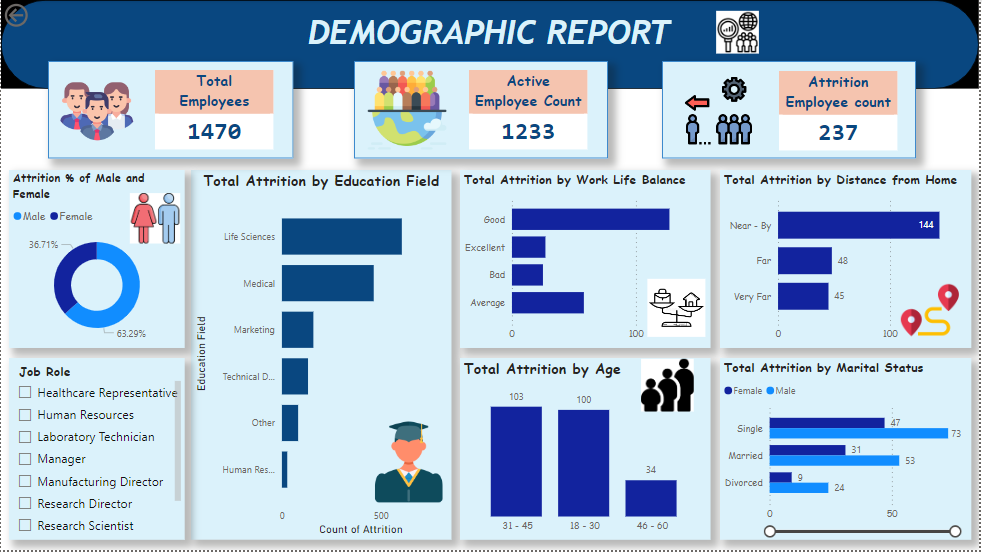

The page's visual inventory and layout, read from the dashboard file:
{"tool":"powerbi","page":{"name":"DE Report","canvas":[1280,720],"ordinal":1},"visuals":[{"type":"shape","box":[0,0,1280,116.2],"z":0},{"type":"image","box":[873.8,8.8,181.2,66.2],"z":1000},{"type":"clusteredBarChart","title":"Total Attrition by Education Field","fields":{"Category":["HR-Employee-Attrition.Education Field"],"Y":["CountNonNull(HR-Employee-Attrition.Attrition)"]},"box":[248.8,222.5,341.2,483.8],"z":2000},{"type":"shape","box":[61.2,80,321.2,127.5],"z":3000},{"type":"card","title":"Total Employees","fields":{"Values":["Sum(HR-Employee-Attrition.Employee Count)"]},"box":[201.2,91.2,155,103.8],"z":4000},{"type":"image","box":[68.8,91.2,112.5,107.5],"z":5000},{"type":"card","title":"Attrition Employee Count","fields":{"Values":["Sum(HR-Employee-Attrition.Active Employees)"]},"box":[612.5,91.2,155,103.8],"z":6000},{"type":"shape","box":[462.5,80,332.5,127.5],"z":7000},{"type":"shape","box":[865,80,332.5,127.5],"z":8000},{"type":"card","title":"Active Employee Count","fields":{"Values":["Sum(HR-Employee-Attrition.Active Employees)"]},"box":[612.5,91.2,155,103.8],"z":9000},{"type":"card","title":"Attrition Employee count","fields":{"Values":["Sum(HR-Employee-Attrition.Attrition Count)"]},"box":[1018.8,92.5,155,103.8],"z":10000},{"type":"image","box":[462.5,87.5,138.8,112.5],"z":11000},{"type":"image","box":[873.8,92.5,131.2,103.8],"z":12000},{"type":"donutChart","title":"Attrition % of Male and Female","fields":{"Y":["Sum(HR-Employee-Attrition.Attrition Count)"],"Category":["HR-Employee-Attrition.Gender"]},"box":[10,222.5,230,232.5],"z":13000},{"type":"image","box":[467.3,543.3,133.5,123.1],"z":14000},{"type":"image","box":[163.6,244.8,75.9,82.5],"z":15000},{"type":"clusteredBarChart","title":"Total Attrition by Work Life Balance","fields":{"Category":["HR-Employee-Attrition.Work Life Balance (groups)"],"Y":["Sum(HR-Employee-Attrition.Attrition Count)"]},"box":[601.2,222.5,327.5,232.5],"z":16000},{"type":"actionButton","box":[0,0,100,40],"z":17000},{"type":"image","box":[839.1,360,89,86.4],"z":18000},{"type":"columnChart","title":"Total Attrition by Age","fields":{"Category":["HR-Employee-Attrition.Age (groups)"],"Y":["Sum(HR-Employee-Attrition.Attrition Count)"]},"box":[601.2,468.8,327.5,237.5],"z":19000},{"type":"clusteredBarChart","title":"Total Attrition by Distance from Home","fields":{"Y":["Sum(HR-Employee-Attrition.Attrition Count)"],"Category":["HR-Employee-Attrition.Distance From Home (groups)"]},"box":[941.2,222.5,328.8,232.5],"z":20000},{"type":"image","box":[1172.9,360,86.4,91.6],"z":21000},{"type":"image","box":[816.9,464.7,111.3,78.5],"z":22000},{"type":"clusteredBarChart","title":"Total Attrition by Marital Status","fields":{"Y":["Sum(HR-Employee-Attrition.Attrition Count)"],"Series":["HR-Employee-Attrition.Gender"],"Category":["HR-Employee-Attrition.Marital Status"]},"box":[941.2,468.8,328.8,237.5],"z":23000},{"type":"slicer","fields":{"Values":["HR-Employee-Attrition.Job Role"]},"box":[10,468.8,230,237.5],"z":24000}]}

Visuals, with their boxes in screenshot pixels (x1, y1, x2, y2), scaled from the page's 1280x720 canvas onto the 982x556 screenshot:
shape: box=[0, 0, 981, 90]
image: box=[670, 7, 809, 58]
"Total Attrition by Education Field" clusteredBarChart: box=[191, 172, 453, 545]
shape: box=[47, 62, 293, 160]
"Total Employees" card: box=[154, 70, 273, 151]
image: box=[53, 70, 139, 153]
"Attrition Employee Count" card: box=[470, 70, 589, 151]
shape: box=[355, 62, 610, 160]
shape: box=[664, 62, 919, 160]
"Active Employee Count" card: box=[470, 70, 589, 151]
"Attrition Employee count" card: box=[782, 71, 901, 152]
image: box=[355, 68, 461, 154]
image: box=[670, 71, 771, 152]
"Attrition % of Male and Female" donutChart: box=[8, 172, 184, 351]
image: box=[359, 420, 461, 515]
image: box=[126, 189, 184, 253]
"Total Attrition by Work Life Balance" clusteredBarChart: box=[461, 172, 712, 351]
actionButton: box=[0, 0, 77, 31]
image: box=[644, 278, 712, 345]
"Total Attrition by Age" columnChart: box=[461, 362, 712, 545]
"Total Attrition by Distance from Home" clusteredBarChart: box=[722, 172, 974, 351]
image: box=[900, 278, 966, 349]
image: box=[627, 359, 712, 419]
"Total Attrition by Marital Status" clusteredBarChart: box=[722, 362, 974, 545]
slicer - HR-Employee-Attrition.Job Role: box=[8, 362, 184, 545]
